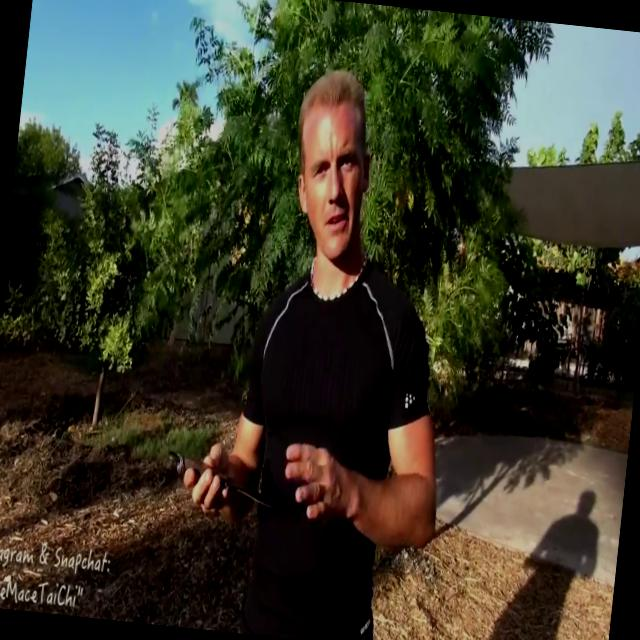knife: (164, 442, 308, 538)
